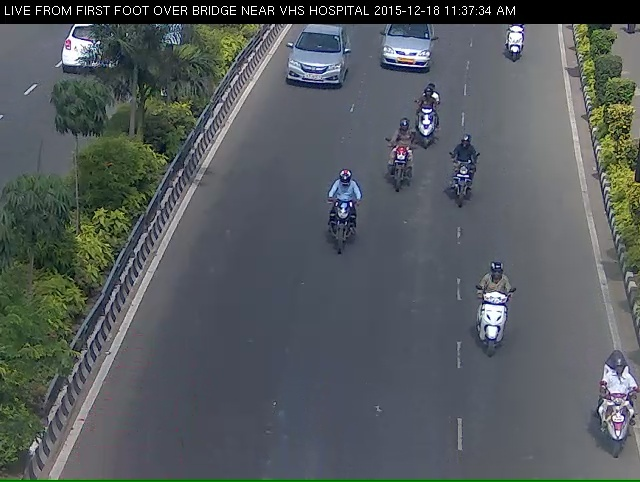Car: (285, 25, 351, 109), (371, 24, 439, 83)
Person: (458, 271, 527, 386), (594, 370, 633, 477), (315, 190, 355, 294), (443, 158, 482, 239), (404, 96, 446, 167), (386, 150, 418, 214), (499, 22, 534, 73)
